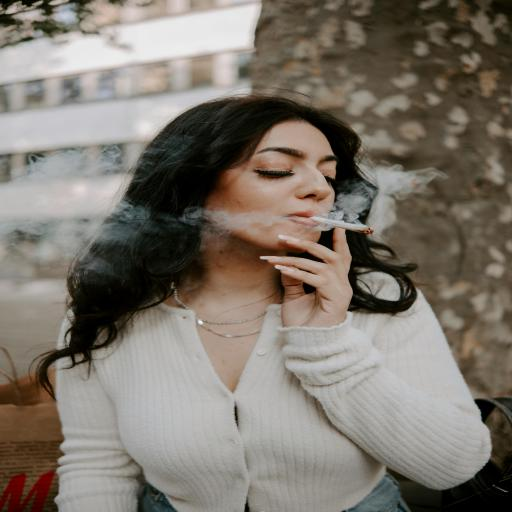terdeteksi merokok: (274, 135, 387, 256)
